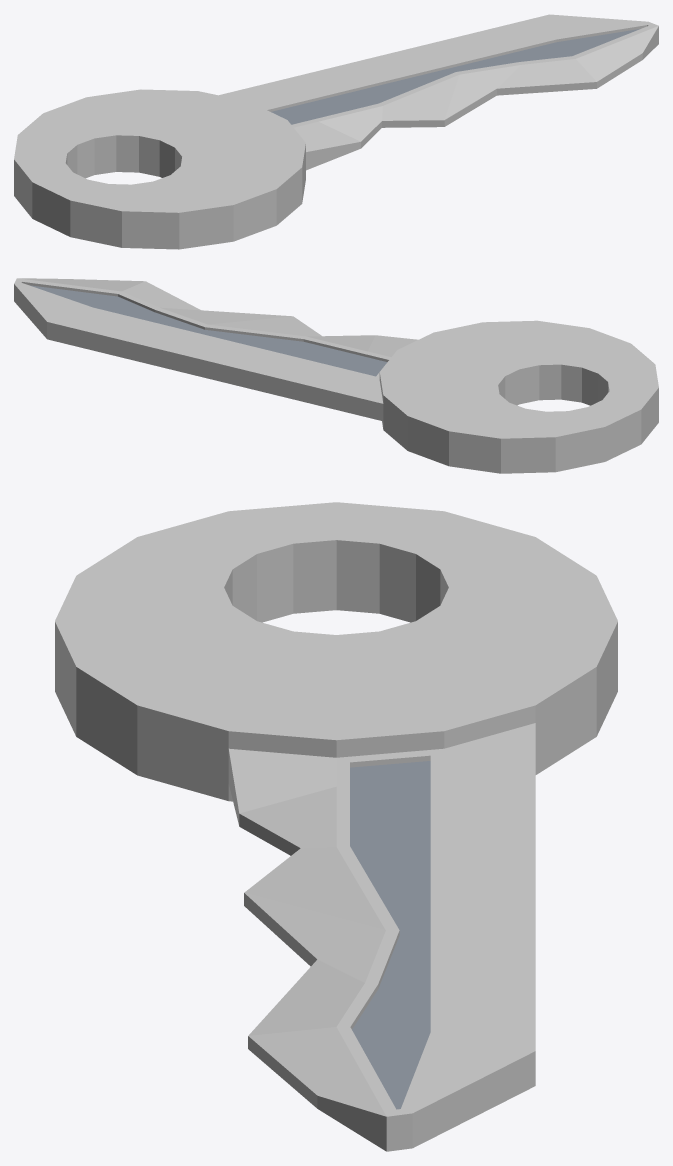
The model's file is TheKey.fbx.
3 renders of one model, top to bottom at view 1: azimuth 30°, elevation 25°; view 2: azimuth 150°, elevation 25°; view 3: azimuth 270°, elevation 25°, orthographic. The views are drawn at different scales.
Visible parts, largest first — view 1: Cylinder; view 2: Cylinder; view 3: Cylinder.
Boxes of the visible parts, x1,y1,x2,y2 form: Cylinder: [14, 14, 658, 249]; Cylinder: [14, 278, 658, 473]; Cylinder: [55, 502, 617, 1151].
Bounding box in the file's own units: 138 × 346 × 18.96.
